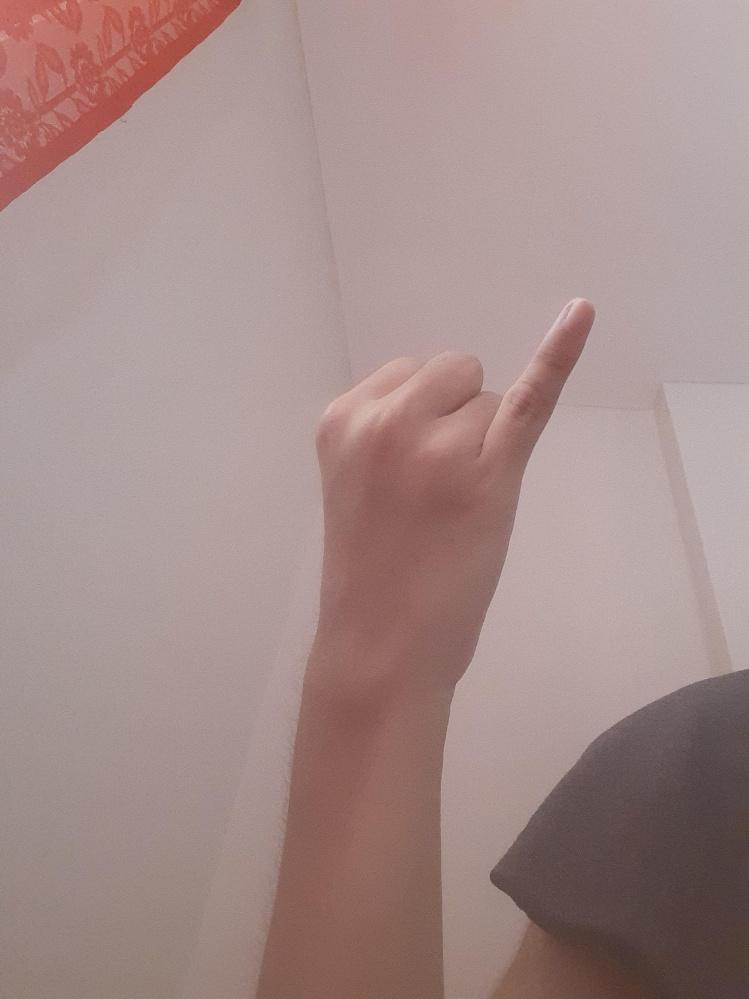j: (311, 295, 594, 640)
